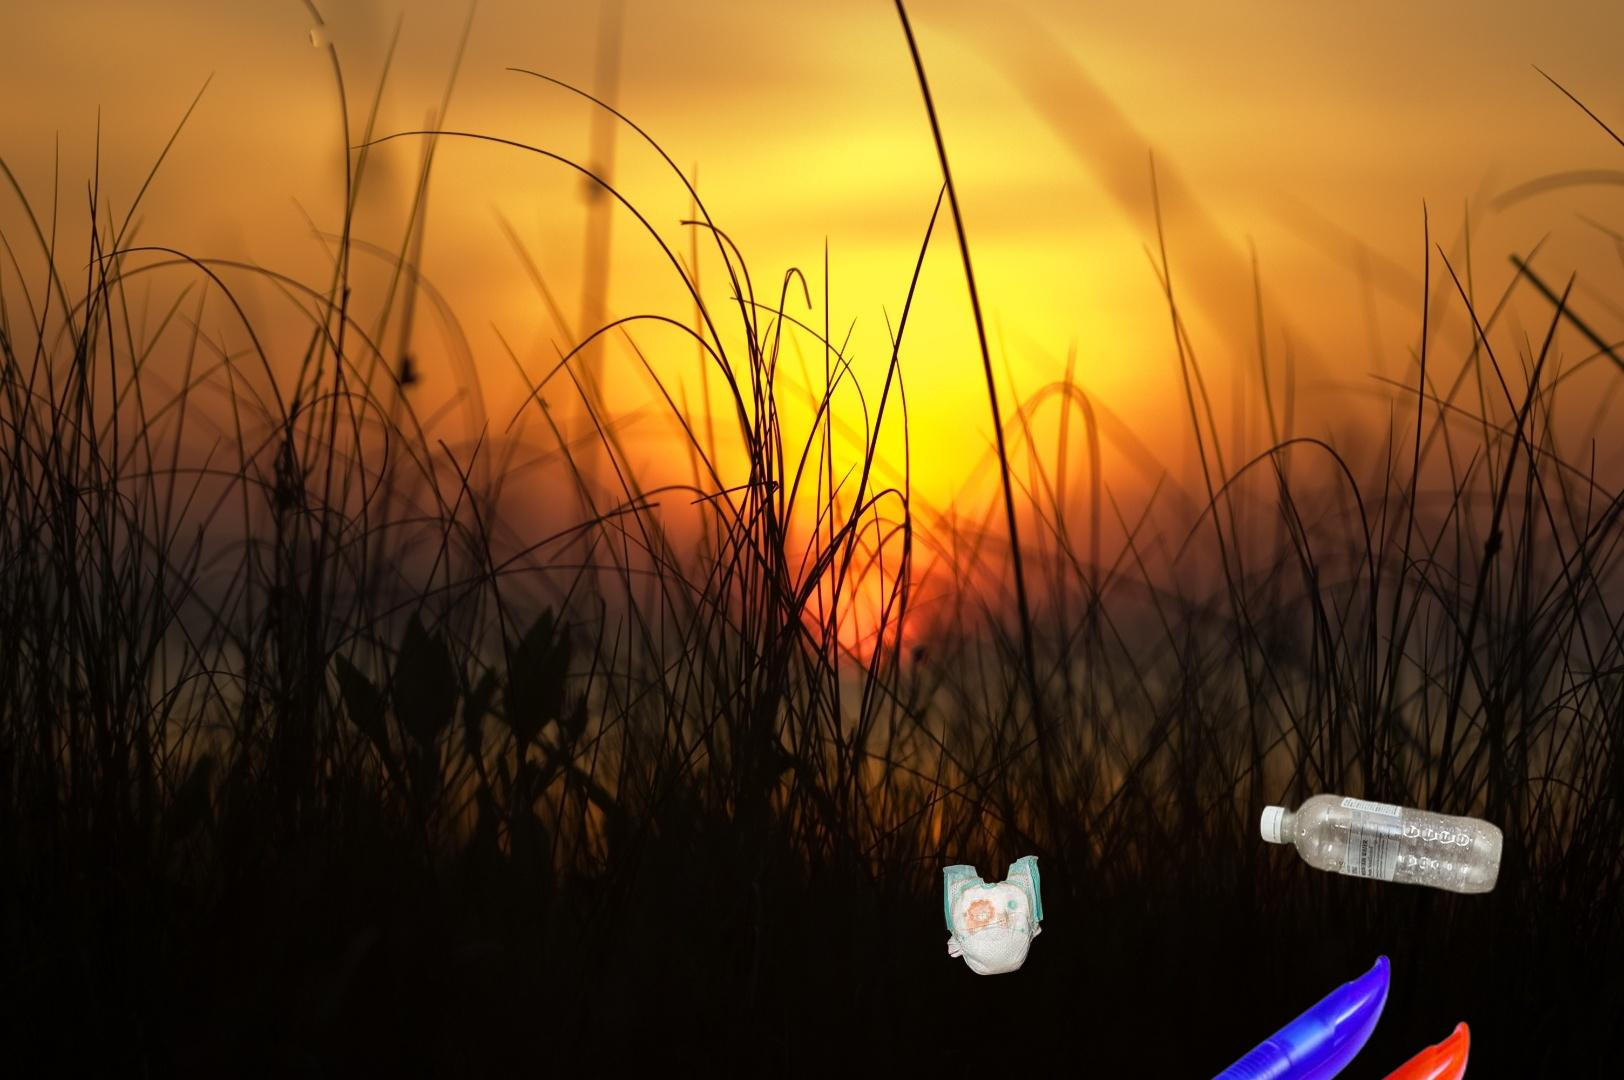penholder: (922, 949, 1475, 1080)
plastic-bottles: (1255, 769, 1624, 1080)
trash: (938, 830, 1046, 978)
